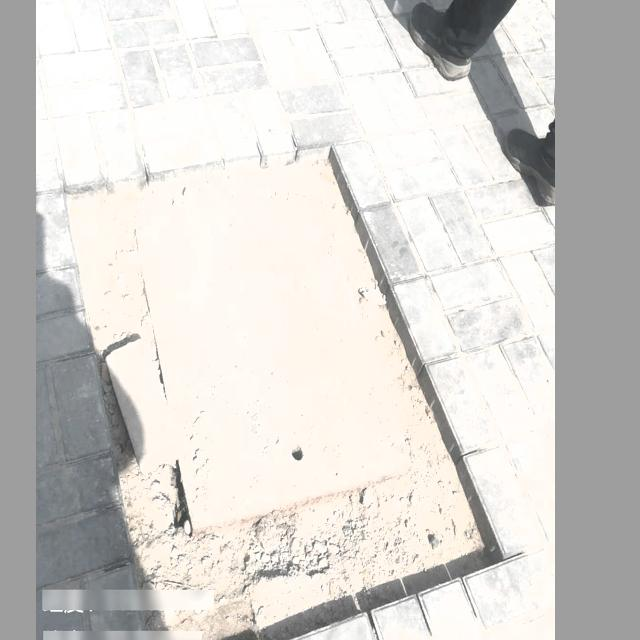circle: (64, 166, 497, 612)
